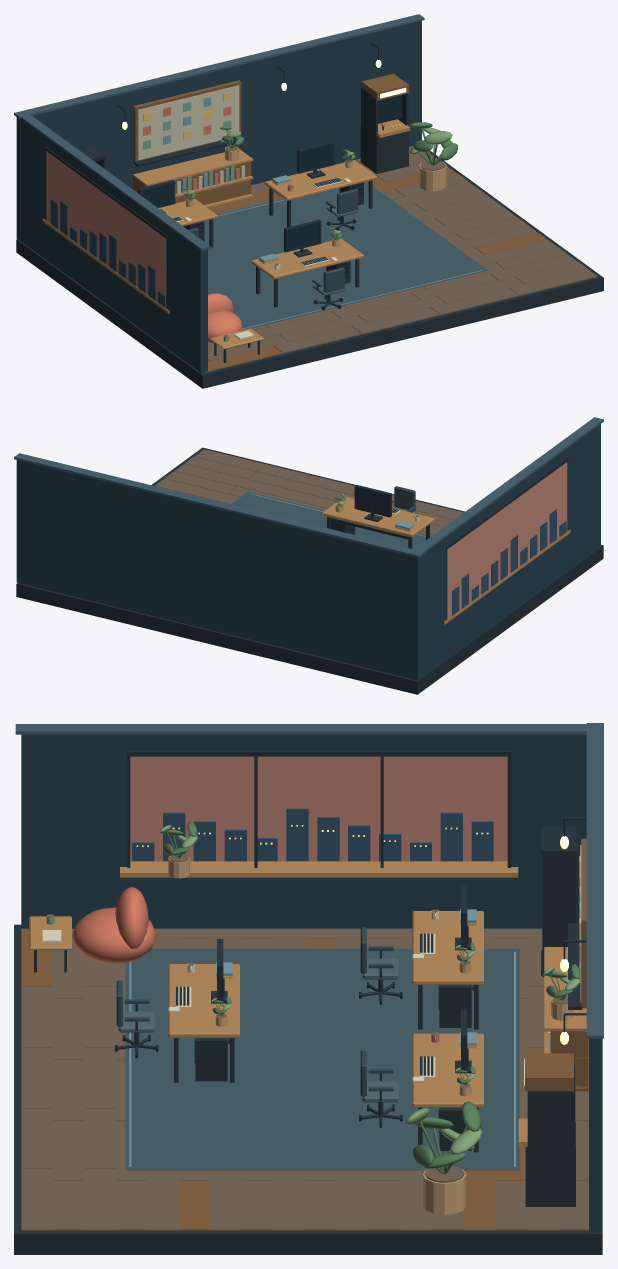
Rendered from office.glb.
The picture shows the model from 3 angles, top to bottom: view 1: azimuth 30°, elevation 25°; view 2: azimuth 150°, elevation 25°; view 3: azimuth 270°, elevation 25°; orthographic projection. The views are drawn at different scales.
Parts seen in each view (by area): view 1: Release3D_Static_CutawayBack_wall, Release3D_Static_Room_floor, Release3D_Static_Room_rug, Release3D_Static_CutawayLeft_wall, Release3D_Static_Room_steel, Release3D_WindowSunset, Release3D_Static_Room_oak_edge, Release3D_Static_CutawayBack_paper, Release3D_Static_CutawayBack_wall_edge, Release3D_Static_Room_oak, Release3D_Static_CutawayLeft_window, Release3D_Static_CutawayLeft_wall_edge (+21 smaller); view 2: Release3D_Static_CutawayBack_wall, Release3D_Static_CutawayLeft_wall, Release3D_Static_Room_steel, Release3D_Static_Room_floor, Release3D_WindowSunset, Release3D_Static_CutawayBack_wall_edge, Release3D_Static_CutawayLeft_window, Release3D_Static_Room_rug, Release3D_Static_CutawayLeft_wall_edge, Release3D_Static_Desk2_steel, Release3D_Static_Desk2_oak, Release3D_Static_CutawayLeft_steel (+2 smaller); view 3: Release3D_Static_Room_rug, Release3D_Static_Room_floor, Release3D_Static_CutawayLeft_wall, Release3D_WindowSunset, Release3D_Static_Room_steel, Release3D_Static_CutawayLeft_window, Release3D_Static_Room_oak_edge, Release3D_Static_CutawayLeft_wall_edge, Release3D_Static_CutawayLeft_oak, Release3D_Static_CutawayBack_wall_edge, Release3D_Static_Room_coral, Release3D_Static_Desk0_oak (+14 smaller).
Part boxes in pixels (x1,y1,x2,y2): Release3D_Static_CutawayBack_wall: (16,21,421,241); Release3D_Static_Room_floor: (203,145,597,372); Release3D_Static_Room_rug: (166,181,487,330); Release3D_Static_CutawayLeft_wall: (21,119,207,372); Release3D_Static_Room_steel: (16,87,603,388); Release3D_WindowSunset: (46,151,165,308); Release3D_Static_Room_oak_edge: (133,73,547,372); Release3D_Static_CutawayBack_paper: (137,85,239,160); Release3D_Static_CutawayBack_wall_edge: (14,14,424,118); Release3D_Static_Room_oak: (133,119,410,349); Release3D_Static_CutawayLeft_window: (50,199,166,307); Release3D_Static_CutawayLeft_wall_edge: (16,112,210,250); Release3D_Static_CutawayBack_wall: (16,460,421,680); Release3D_Static_CutawayLeft_wall: (422,424,600,676); Release3D_Static_Room_steel: (16,447,603,694); Release3D_Static_Room_floor: (155,449,463,536); Release3D_WindowSunset: (447,462,567,619); Release3D_Static_CutawayBack_wall_edge: (14,453,424,557); Release3D_Static_CutawayLeft_window: (452,509,566,615); Release3D_Static_Room_rug: (231,492,430,549); Release3D_Static_CutawayLeft_wall_edge: (410,417,603,553); Release3D_Static_Desk2_steel: (327,485,429,548); Release3D_Static_Desk2_oak: (322,496,434,537); Release3D_Static_CutawayLeft_steel: (446,458,568,619); Release3D_Static_Room_rug: (125,948,519,1170); Release3D_Static_Room_floor: (21,914,588,1230); Release3D_Static_CutawayLeft_wall: (21,734,586,928); Release3D_WindowSunset: (130,756,507,861); Release3D_Static_Room_steel: (14,827,602,1254); Release3D_Static_CutawayLeft_window: (132,808,493,861); Release3D_Static_Room_oak_edge: (21,928,588,1230); Release3D_Static_CutawayLeft_wall_edge: (15,724,600,734); Release3D_Static_CutawayLeft_oak: (120,861,518,877); Release3D_Static_CutawayBack_wall_edge: (586,723,603,1038); Release3D_Static_Room_coral: (72,887,156,963); Release3D_Static_Desk0_oak: (412,911,483,984).
Size of the model in its own units: 10.3 by 3.4 by 8.22.
